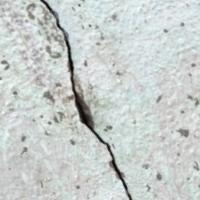crack: (40, 0, 142, 194)
